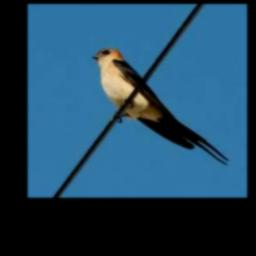Swallow: (91, 48, 229, 166)
